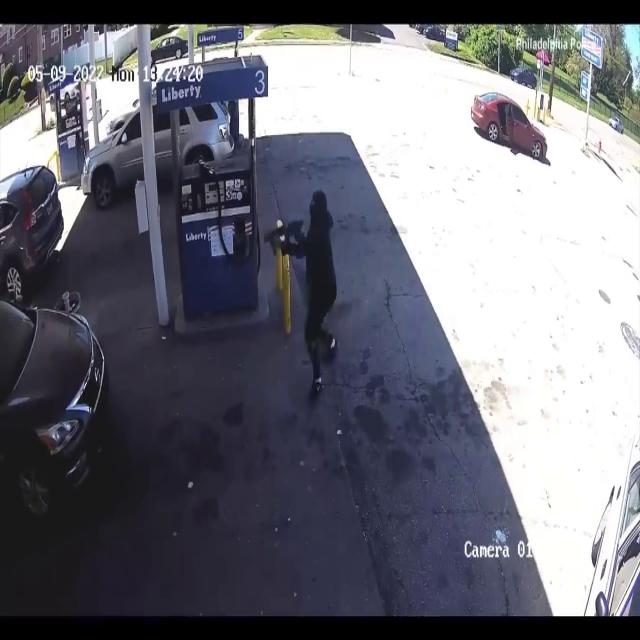penembakan: (264, 190, 350, 406)
